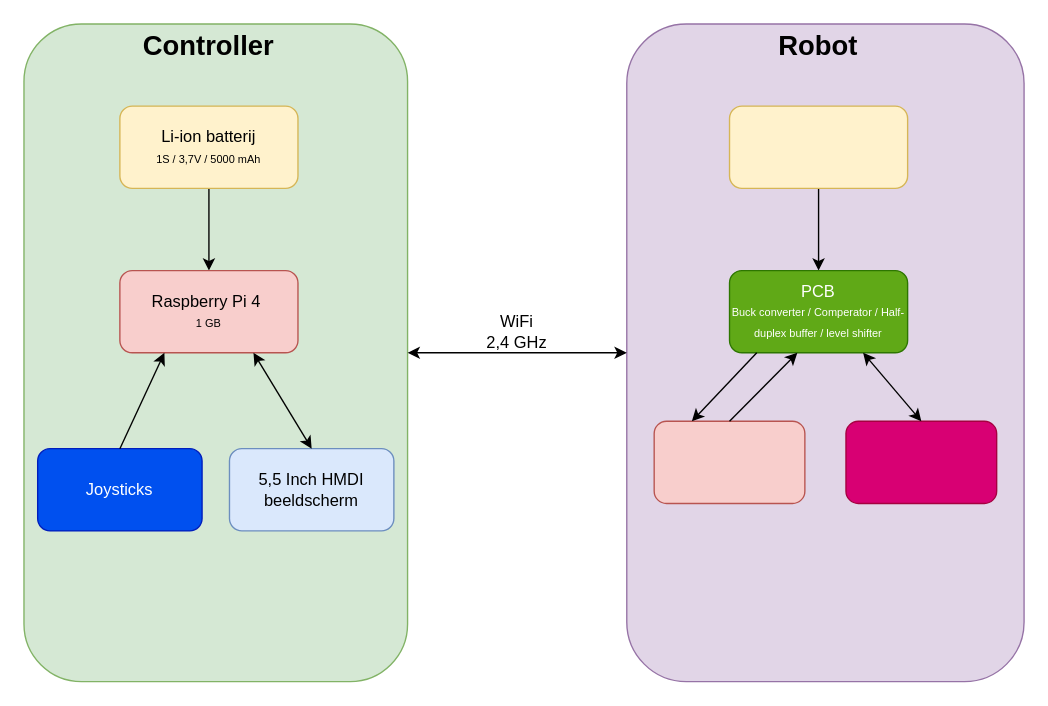
The diagram is 1048 pixels wide and 706 high, and some of its shapes have lost their labels. The shapes that lost their labels are listed below. From the top down, each one's centre as x and y in pixels, then its label:
point 818,146: LiPo batterij 3S / 11,1V / 5000 mAh
point 729,461: Raspberry Pi 5 16 GB
point 921,461: AX12A servo's
